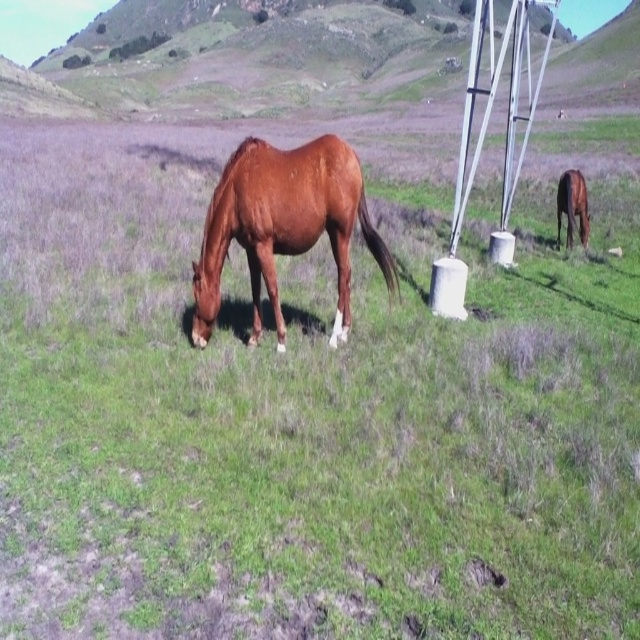Horse: (189, 131, 400, 352)
